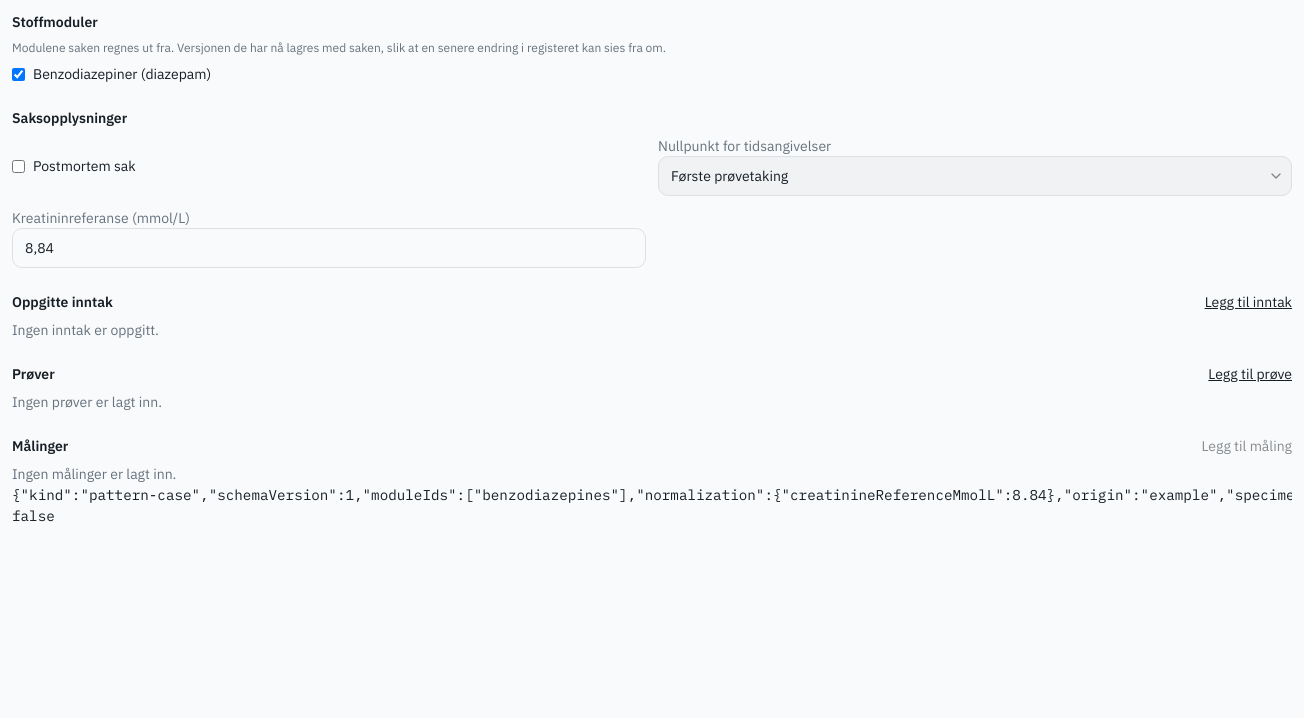
Test: entering a case › says a timeline contradicts its own origin while it is being typed
Click the button "Legg til prøve": (1250, 374) top-left (1208, 364), bottom-right (1292, 384)
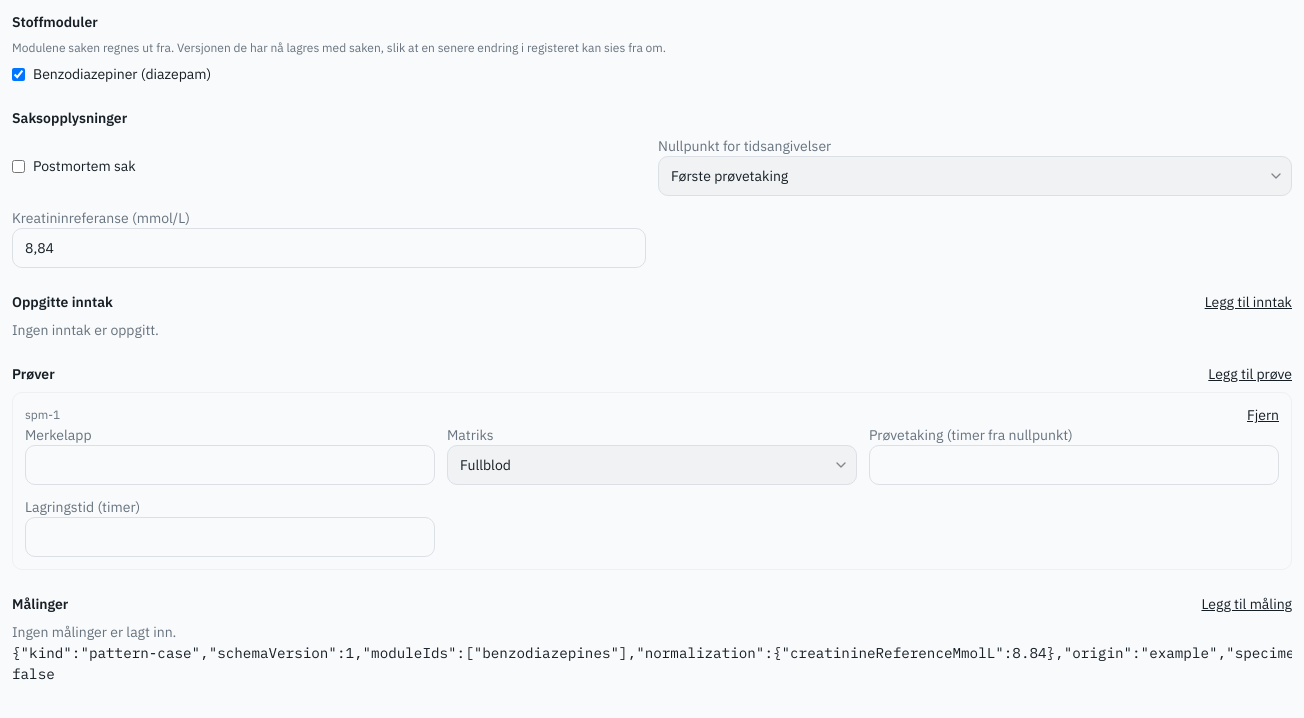
In the field labelled "Prøvetaking (timer fra nullpunkt)": (1074, 465) top-left (869, 445), bottom-right (1279, 485), type "3"
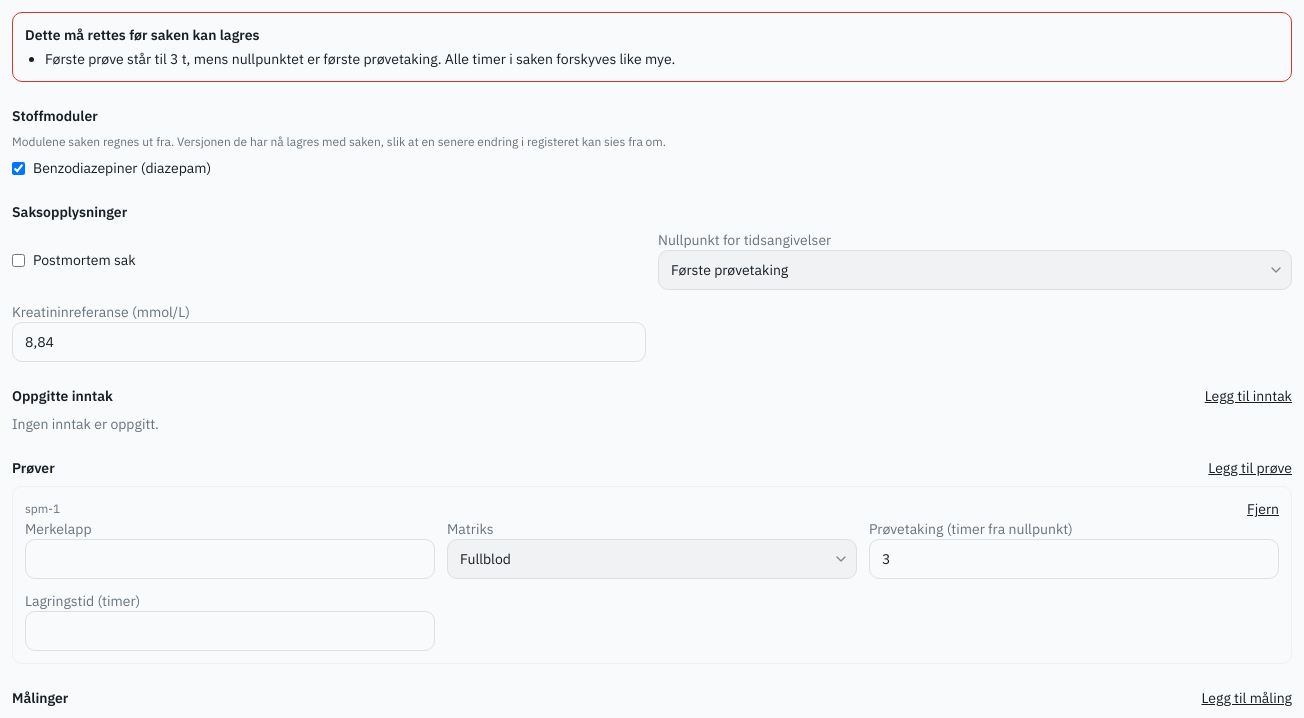
Check: the list item "Alle timer i saken forskyves like mye" is shown, box top-left (45, 50), bottom-right (675, 68)
